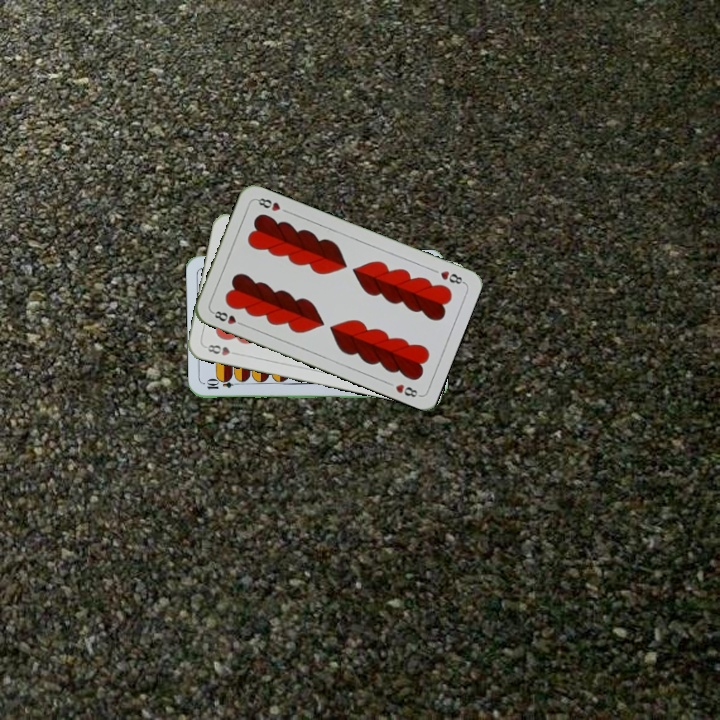E10: (203, 377, 243, 392)
H8: (208, 306, 247, 328), (201, 340, 241, 358), (436, 266, 467, 287)
